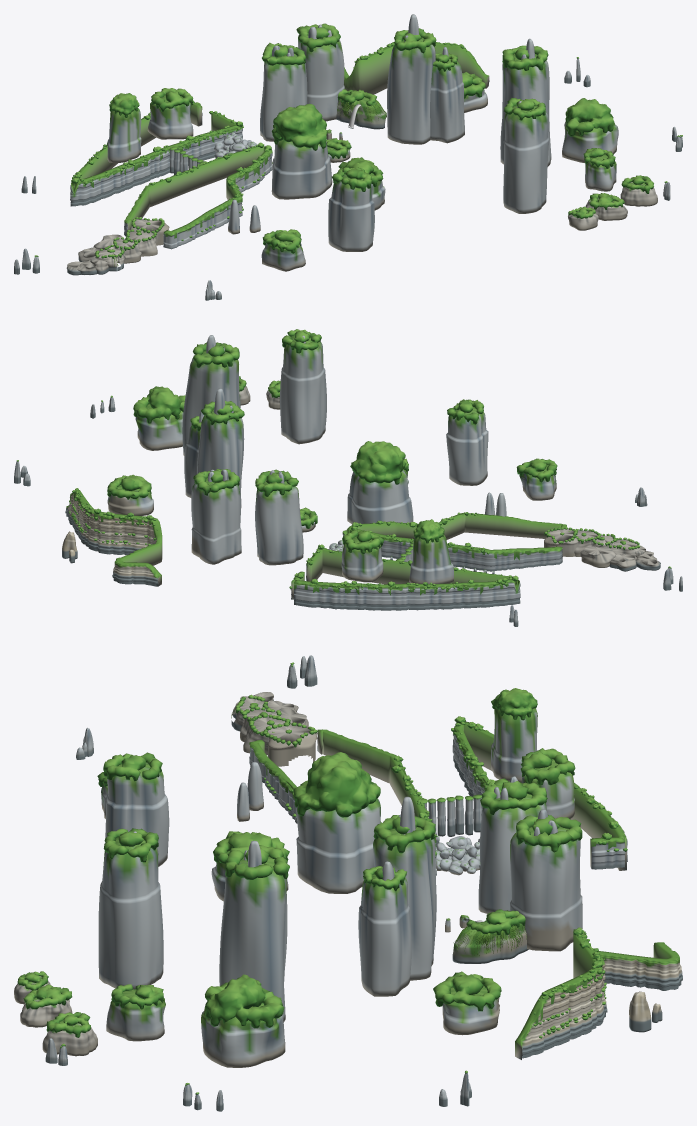
File: landmarks.glb
3 views of the same model, one above another, from view 1: azimuth 30°, elevation 25°; view 2: azimuth 150°, elevation 25°; view 3: azimuth 270°, elevation 25° (orthographic). The views are drawn at different scales.
Parts seen in each view (by area): view 1: rocks_west, rocks_middle, rocks_east, crowns_west, crowns_middle, crowns_east, rocks_cave, rocks_cliffs, rocks_headland, crowns_headland, vines_west, crowns_cave (+2 smaller); view 2: rocks_west, rocks_middle, rocks_east, crowns_west, rocks_cliffs, crowns_middle, crowns_east, rocks_cave, vines_west, crowns_cave, tufts_cliffs; view 3: rocks_middle, rocks_west, rocks_east, crowns_west, rocks_cliffs, crowns_east, crowns_middle, rocks_cave, rocks_headland, crowns_headland, rocks_stones, rocks_gorge (+2 smaller).
Part boxes in pixels (x1,y1,x2,y2): rocks_west: [70, 95, 374, 271]; rocks_middle: [260, 14, 548, 213]; rocks_east: [430, 38, 618, 191]; crowns_west: [71, 88, 371, 253]; crowns_middle: [262, 23, 545, 186]; crowns_east: [432, 45, 615, 168]; rocks_cave: [66, 219, 169, 275]; rocks_cliffs: [344, 42, 489, 94]; rocks_headland: [568, 182, 657, 230]; crowns_headland: [568, 175, 653, 218]; vines_west: [83, 127, 272, 238]; crowns_cave: [95, 217, 164, 258]; rocks_west: [290, 407, 566, 610]; rocks_middle: [191, 335, 408, 565]; rocks_east: [107, 335, 240, 515]; crowns_west: [294, 399, 557, 589]; rocks_cliffs: [62, 490, 162, 586]; crowns_middle: [193, 329, 408, 528]; crowns_east: [107, 342, 239, 499]; rocks_cave: [544, 529, 660, 571]; vines_west: [293, 530, 544, 595]; crowns_cave: [544, 527, 640, 549]; tufts_cliffs: [68, 498, 155, 545]; rocks_middle: [98, 776, 582, 989]; rocks_west: [101, 708, 627, 893]; rocks_east: [106, 840, 499, 1067]; crowns_west: [97, 688, 618, 844]; rocks_cliffs: [515, 929, 682, 1059]; crowns_east: [111, 845, 501, 1028]; crowns_middle: [103, 778, 582, 935]; rocks_cave: [231, 692, 317, 766]; rocks_headland: [14, 976, 97, 1056]; crowns_headland: [17, 971, 90, 1037]; rocks_stones: [419, 794, 481, 836]; rocks_gorge: [406, 774, 480, 875].
Size of the model in its own units: 398 by 77.33 by 257.
